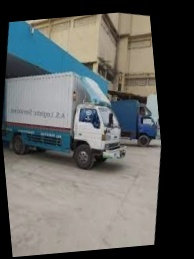truck: (0, 54, 140, 185), (100, 92, 162, 154)
